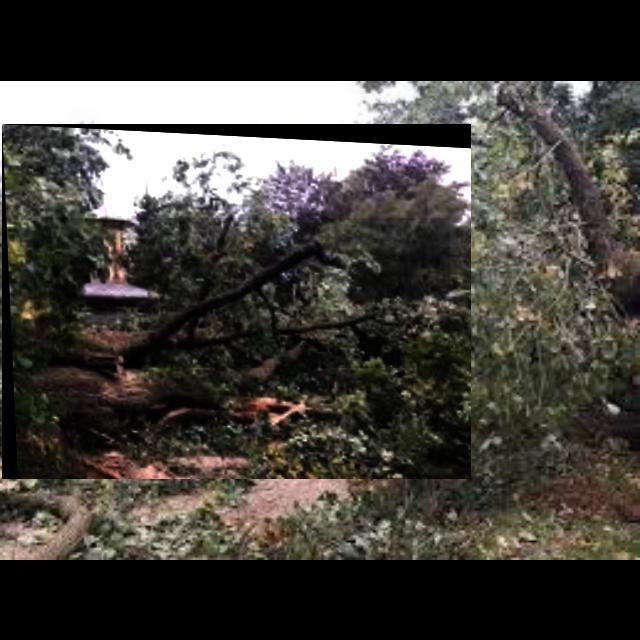fallen_tree: (2, 124, 472, 480), (34, 218, 450, 368)
